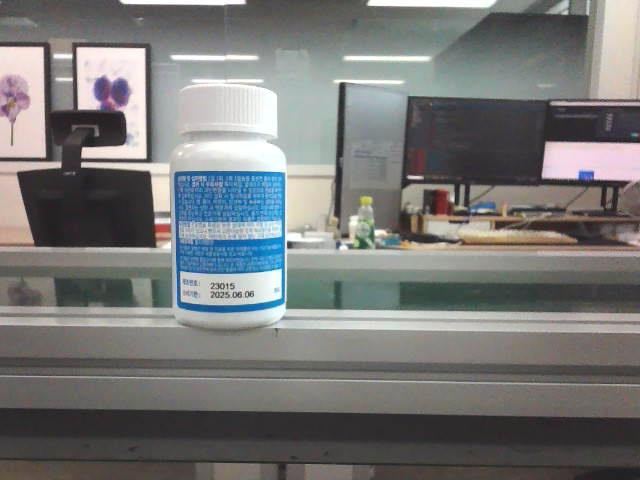labeled: (165, 79, 293, 336)
